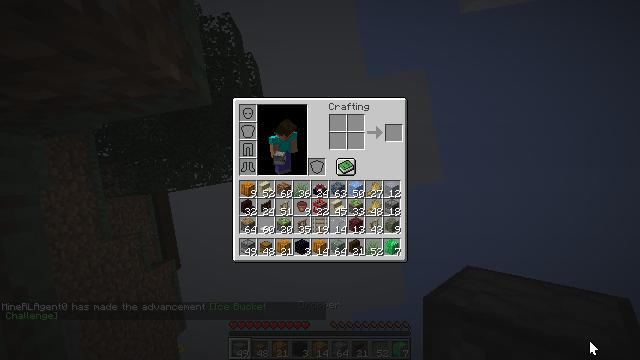cursor: (589, 340, 599, 356)
